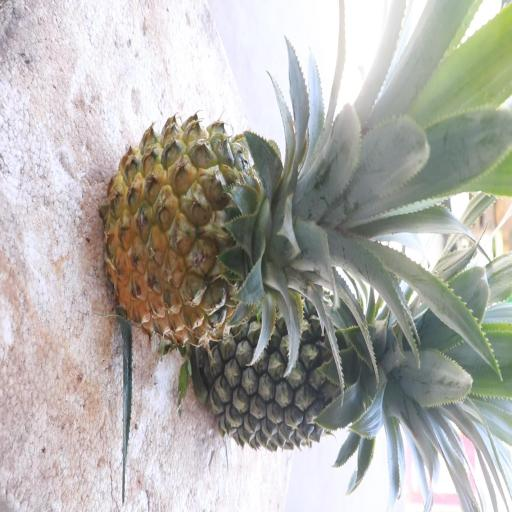Pineapple - v8 v1: (96, 106, 383, 348)
